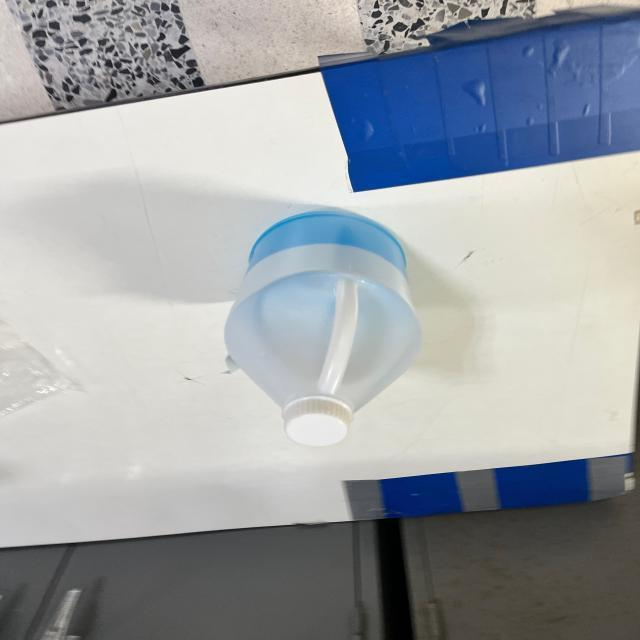HDPE Plastic: (221, 204, 430, 454)
